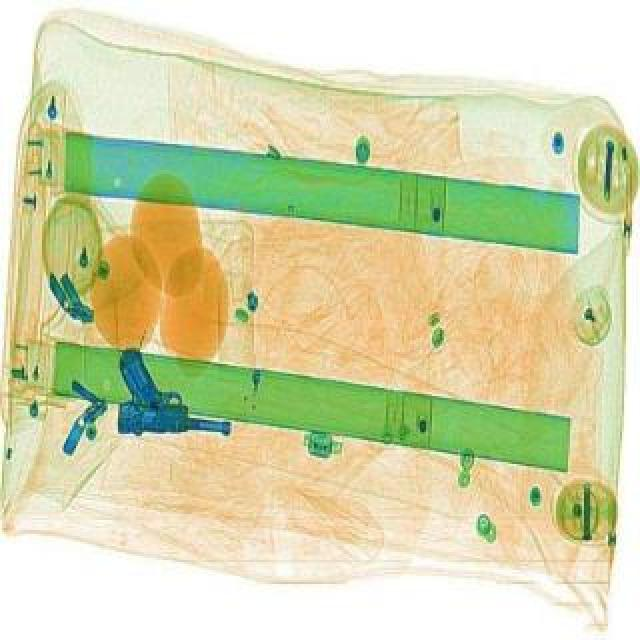gun: (112, 342, 244, 442)
